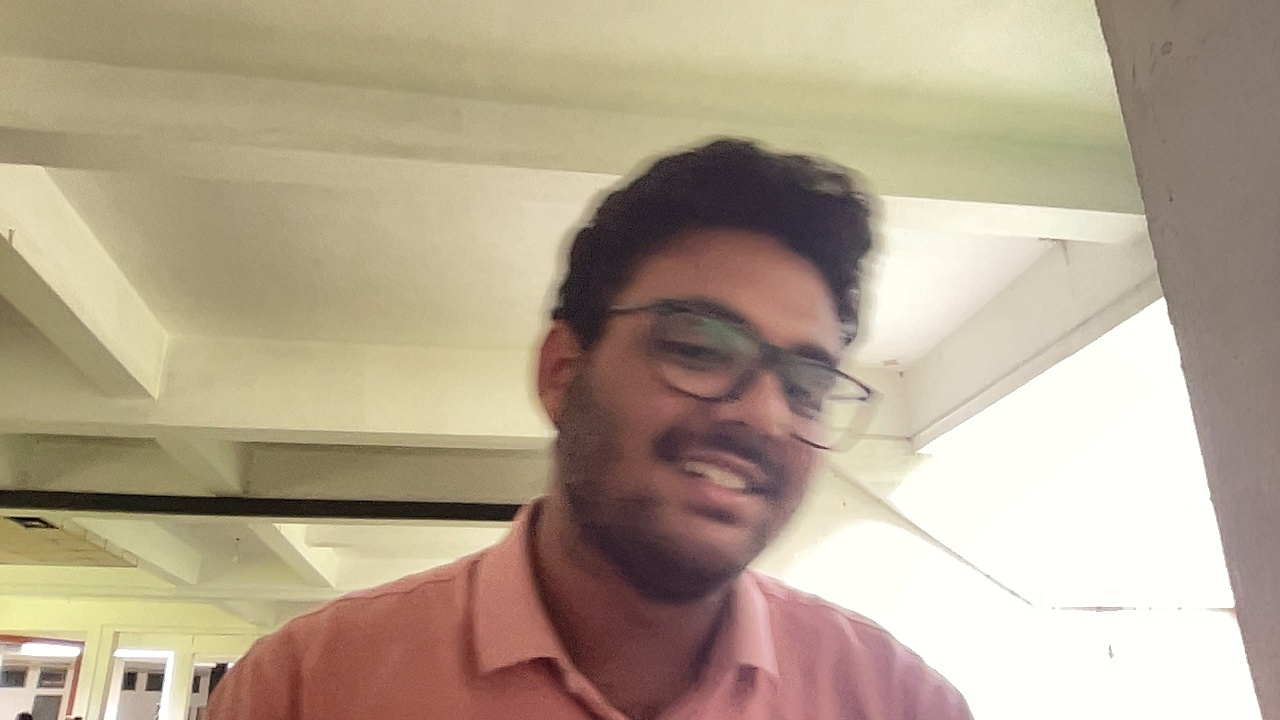yes: (935, 371, 1280, 713)
